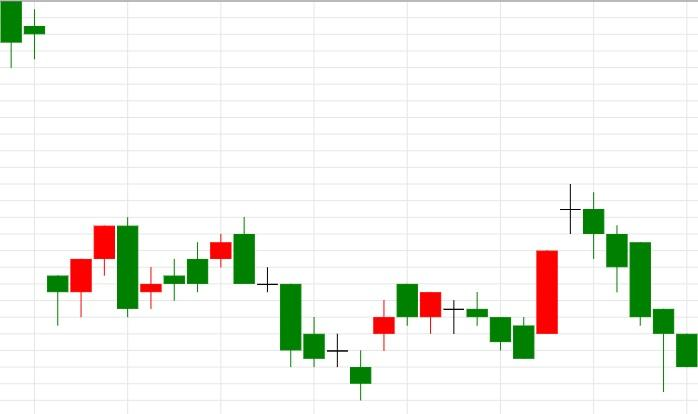bearish_engulfing_fall: (117, 217, 256, 316), (47, 217, 139, 326)
hammer_rise: (561, 184, 674, 392), (0, 0, 70, 327)
